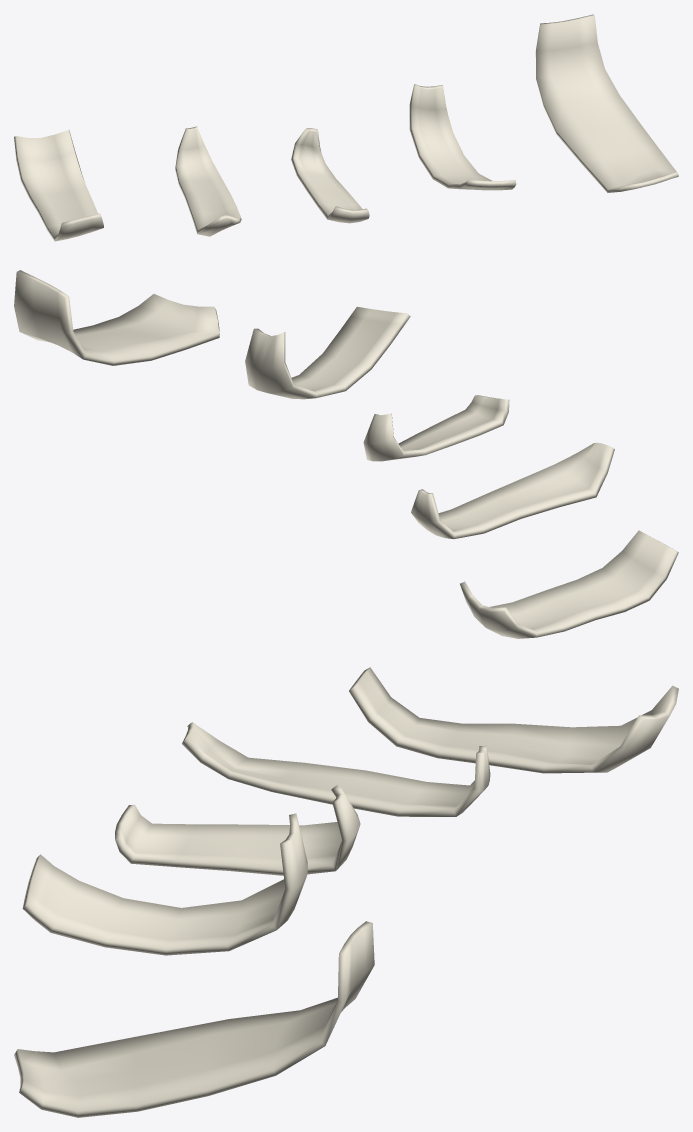
3 views of the same model, one above another, from view 1: azimuth 30°, elevation 25°; view 2: azimuth 150°, elevation 25°; view 3: azimuth 270°, elevation 25° (orthographic). The views are drawn at different scales.
Parts seen in each view (by area): view 1: ZA_6ea43c98b41f54a9; view 2: ZA_6ea43c98b41f54a9; view 3: ZA_6ea43c98b41f54a9.
Part boxes in pixels (x1,y1,x2,y2): ZA_6ea43c98b41f54a9: [14, 14, 678, 241]; ZA_6ea43c98b41f54a9: [14, 270, 678, 638]; ZA_6ea43c98b41f54a9: [14, 667, 678, 1117].
Bounding box in the file's own units: 0.0682 × 0.0144 × 0.044.
